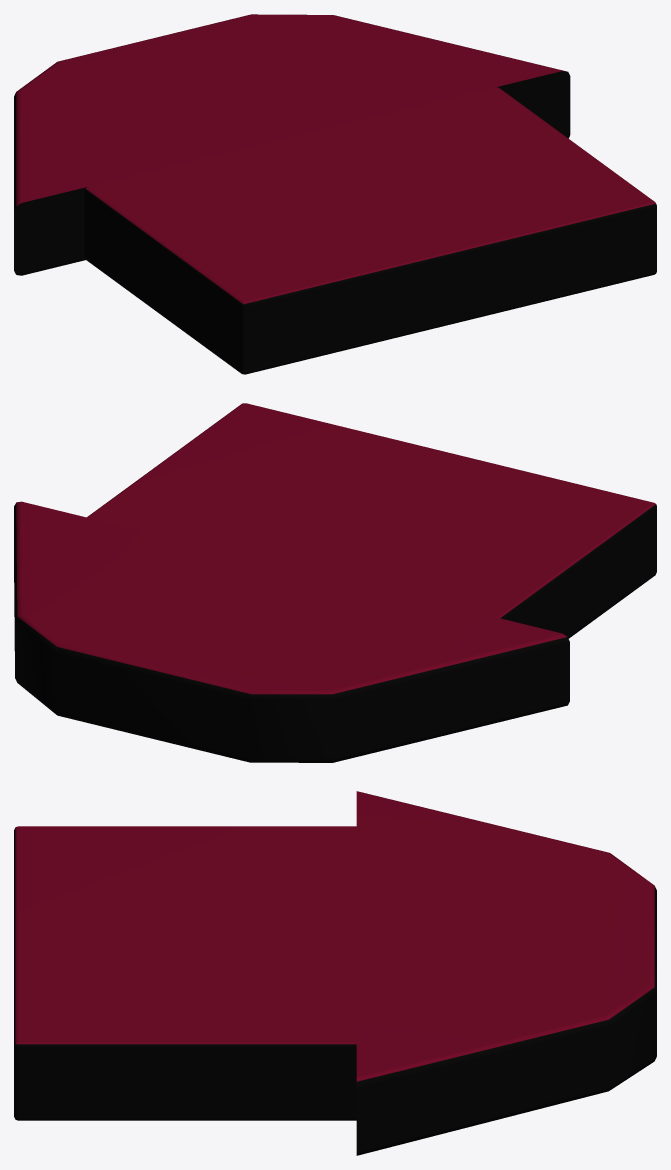
Rendered from plafertome_3MAT.fbx.
The picture shows the model from 3 angles, top to bottom: view 1: azimuth 30°, elevation 25°; view 2: azimuth 150°, elevation 25°; view 3: azimuth 270°, elevation 25°; orthographic projection. The views are drawn at different scales.
Visible parts, largest first — view 1: plateforme_SM; view 2: plateforme_SM; view 3: plateforme_SM.
Part boxes in pixels (bbox=[...]): plateforme_SM: bbox=[14, 14, 656, 374]; plateforme_SM: bbox=[14, 403, 656, 762]; plateforme_SM: bbox=[14, 791, 656, 1155].
Size of the model in its own units: 800 by 100 by 742.
